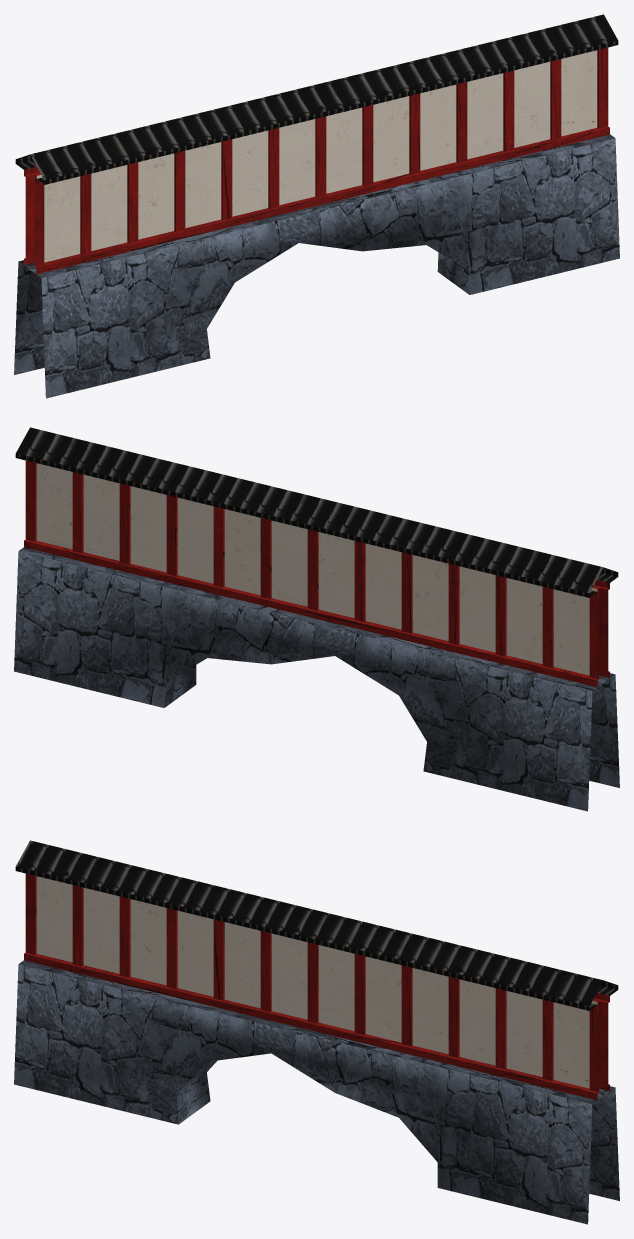
File: WallMiddleSlide.fbx
The picture shows the model from 3 angles, top to bottom: view 1: azimuth 30°, elevation 25°; view 2: azimuth 150°, elevation 25°; view 3: azimuth 330°, elevation 25°; orthographic projection.
Visible parts, largest first — view 1: Cube_002, Cube_003, Cube_031, Cube_032; view 2: Cube_002, Cube_003, Cube_031, Cube_032; view 3: Cube_002, Cube_003, Cube_031, Cube_032.
Boxes of the visible parts, left/top/right/bottom form: Cube_002: left=14, top=134, right=619, bottom=398; Cube_003: left=36, top=50, right=597, bottom=262; Cube_031: left=15, top=14, right=618, bottom=184; Cube_032: left=24, top=47, right=609, bottom=275; Cube_002: left=14, top=547, right=619, bottom=811; Cube_003: left=36, top=463, right=597, bottom=675; Cube_031: left=15, top=427, right=618, bottom=597; Cube_032: left=24, top=460, right=609, bottom=688; Cube_002: left=14, top=960, right=619, bottom=1224; Cube_003: left=36, top=876, right=597, bottom=1088; Cube_031: left=15, top=840, right=618, bottom=1010; Cube_032: left=24, top=873, right=609, bottom=1101.
Bounding box in the file's own units: 1149 × 445 × 111.
